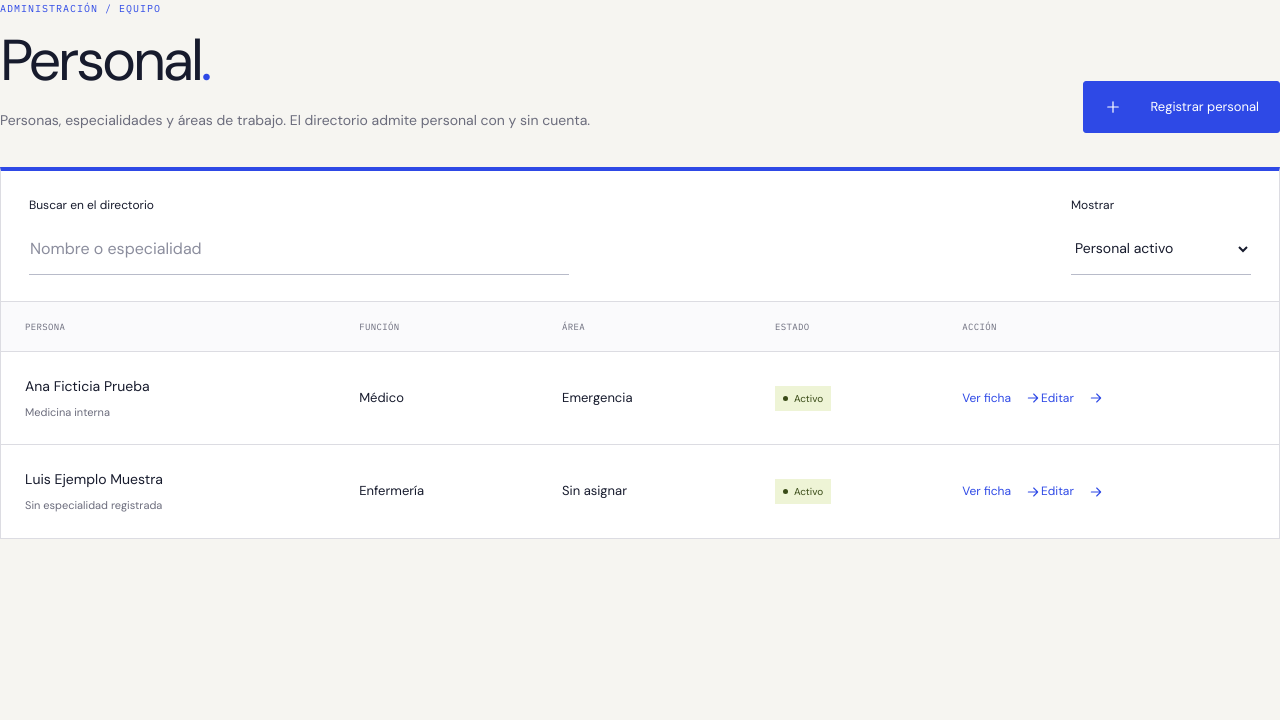
Test: W08 · ficha de personal › se abre desde el directorio y muestra los datos de la persona
Click the button with aria-label "Ver ficha de Ana".
click(1002, 398)  # box left=962, top=376, right=1041, bottom=420
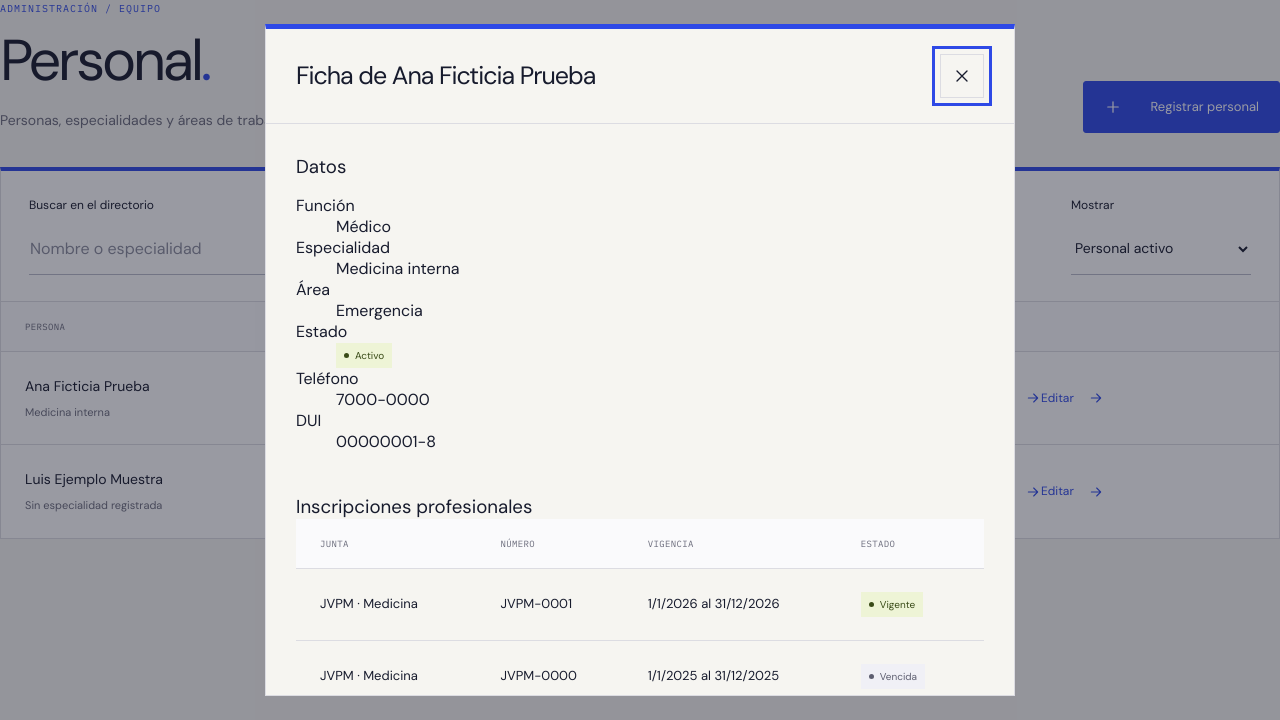
Result: the text "Medicina interna" is shown at left=336, top=258, right=460, bottom=279
Result: the text "Emergencia" is shown at left=336, top=300, right=423, bottom=321
Result: the text "00000001-8" is shown at left=336, top=431, right=436, bottom=452
